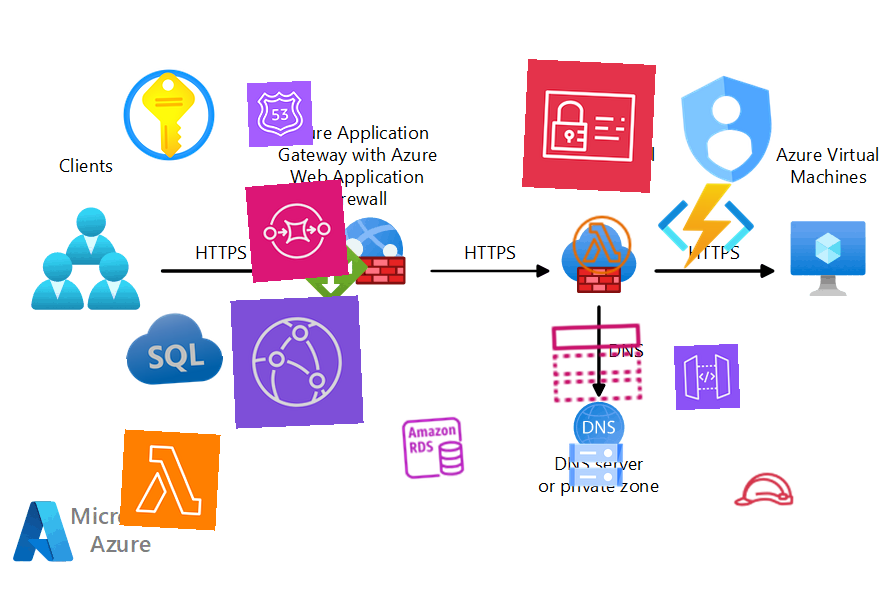aws_amazon_api_gateway: (673, 343, 741, 411)
aws_amazon_cloudfront: (230, 295, 364, 429)
aws_amazon_route_53: (246, 80, 314, 148)
aws_amazon_simple_queue_service: (245, 179, 349, 283)
aws_aurora_amazon_rds_instance: (398, 413, 468, 483)
aws_identity_access_management_role: (731, 457, 797, 523)
aws_identity_and_access_management: (522, 59, 656, 193)
aws_lambda: (119, 429, 221, 531)
aws_lambda_lambda_function: (569, 212, 635, 278)
aws_simple_notification_service_topic: (547, 313, 647, 413)
azure_function_apps: (657, 177, 755, 275)
azure_key_vaults: (119, 65, 219, 165)
azure_sql: (122, 298, 226, 402)
gcp_cloud_storage: (563, 432, 629, 498)
gcp_identity_and_access_management: (658, 59, 798, 199)
